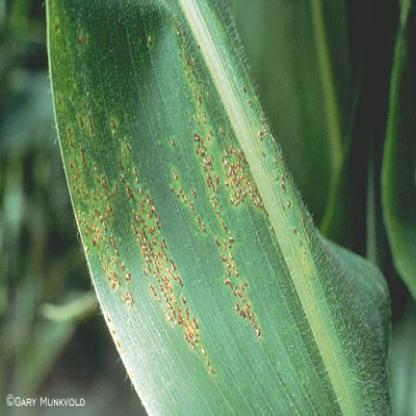corn rust leaf: (39, 4, 390, 390)
